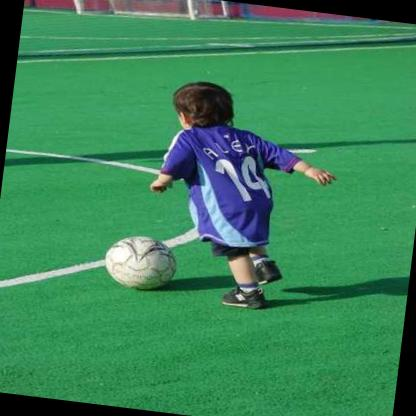ball: (103, 233, 179, 292)
